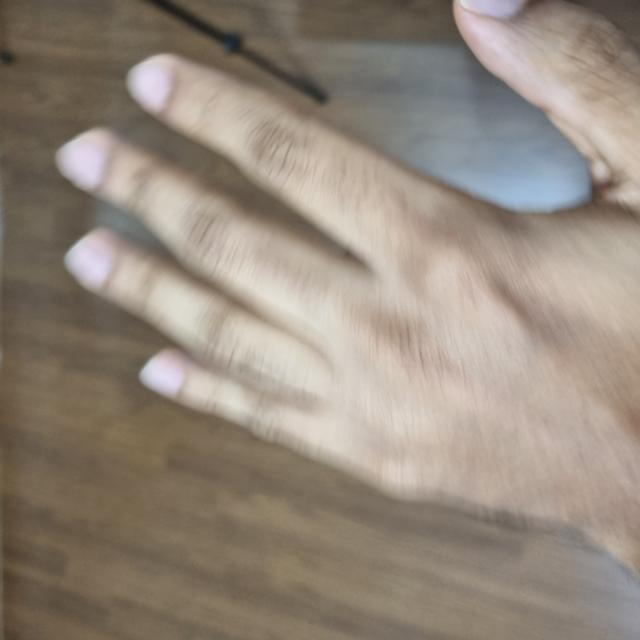Paper: (103, 67, 639, 639)
